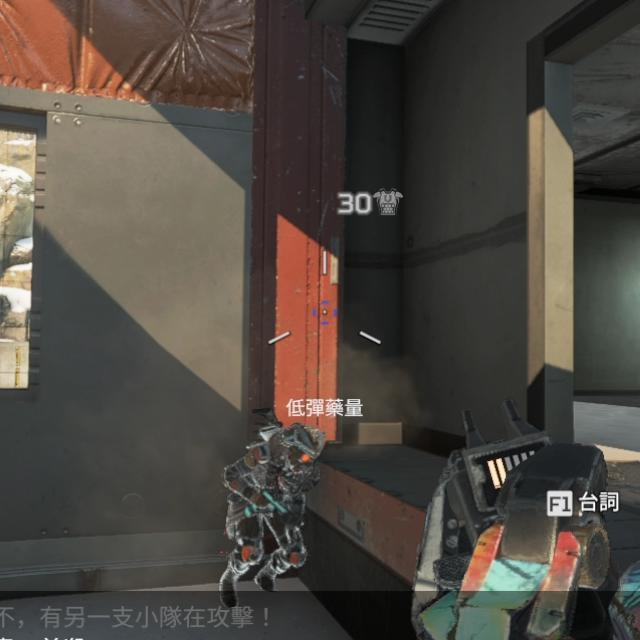avatar: (216, 420, 327, 611)
